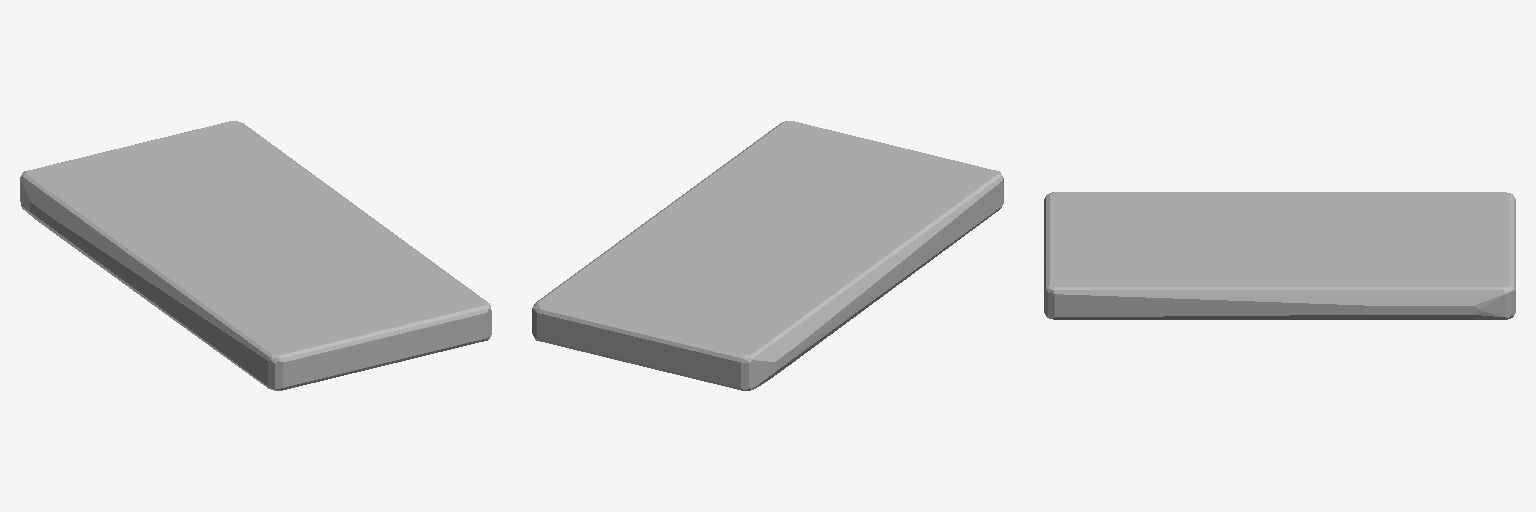
robot.urdf — root:
<robot name="root">
  <link name="link_coacd_convex_piece_0">
    <inertial>
      <origin xyz="0 0 0" rpy="0 0 0"/>
      <inertia ixx="4.26E-02" ixy="-1.45E-06" ixz="2.16E-06" iyy="1.11E-02" iyz="-1.34E-04" izz="5.32E-02"/>
    </inertial>
    <visual>
      <origin xyz="0 0 0" rpy="0 0 0"/>
      <geometry>
        <mesh filename="coacd_convex_piece_0.obj" scale="1.0000E+00 1.0000E+00 1.0000E+00"/>
      </geometry>
      <material name="">
        <color rgba="7.50E-01 7.50E-01 7.50E-01 1"/>
      </material>
    </visual>
    <collision>
      <origin xyz="0 0 0" rpy="0 0 0"/>
      <geometry>
        <mesh filename="coacd_convex_piece_0.obj" scale="1.0000E+00 1.0000E+00 1.0000E+00"/>
      </geometry>
    </collision>
  </link>
</robot>

--- What the picture shows (computed from the rendered views, not written in the file) ---
Views: 3 orthographic renders of the robot side by side, from view 1: azimuth 30°, elevation 25°; view 2: azimuth 150°, elevation 25°; view 3: azimuth 270°, elevation 25°.
Robot: root — 1 links, 0 joints (none); root link link_coacd_convex_piece_0; default pose: every joint at zero.
Links seen in each view (by area): view 1: link_coacd_convex_piece_0; view 2: link_coacd_convex_piece_0; view 3: link_coacd_convex_piece_0.
Link boxes in pixels (x1,y1,x2,y2): link_coacd_convex_piece_0: [20, 121, 491, 390]; link_coacd_convex_piece_0: [532, 121, 1003, 390]; link_coacd_convex_piece_0: [1044, 192, 1515, 319].
Bounding box of the posed robot: 0.9331 × 1.79 × 0.1555 m (x, y, z).
1 mesh visuals loaded from 1 distinct referenced files (1 OBJ).
